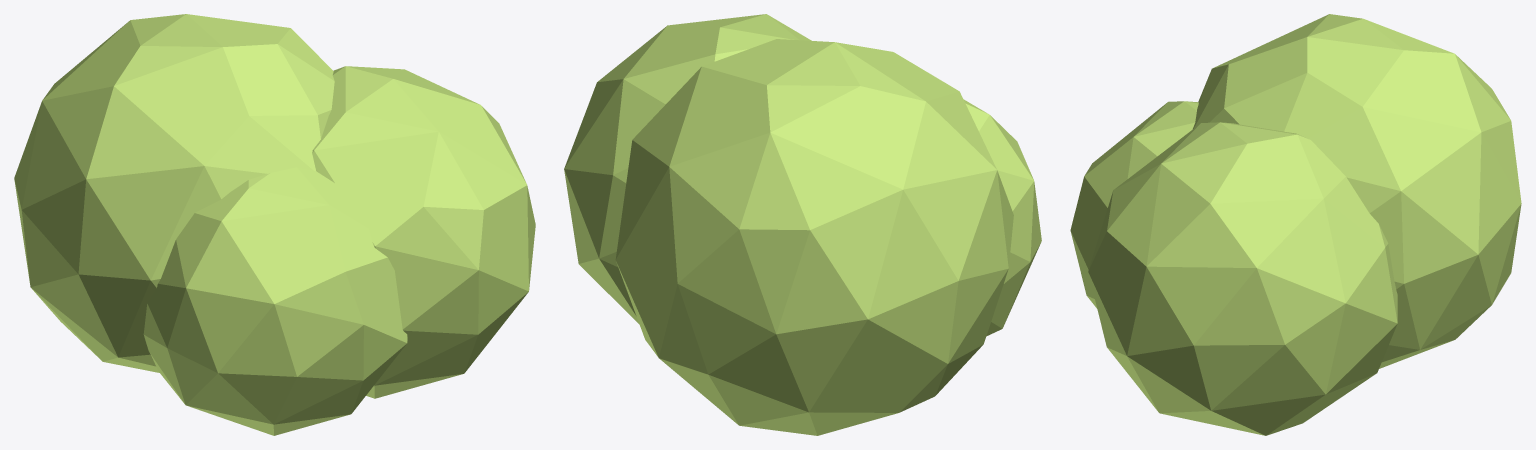
File: Bush_c_m_01.fbx
3 renders of one model, left to right at view 1: azimuth 30°, elevation 25°; view 2: azimuth 150°, elevation 25°; view 3: azimuth 270°, elevation 25°, orthographic. The views are drawn at different scales.
Visible parts, largest first — view 1: Bush_c_m_01; view 2: Bush_c_m_01; view 3: Bush_c_m_01.
Part boxes in pixels (x1=…): Bush_c_m_01: x1=14, y1=14, x2=535, y2=435; Bush_c_m_01: x1=564, y1=14, x2=1041, y2=435; Bush_c_m_01: x1=1070, y1=14, x2=1521, y2=435.
Size of the model in its own units: 161 by 124 by 156.
